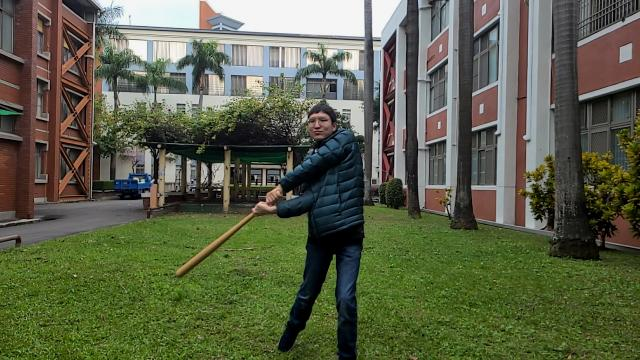bat: (176, 214, 256, 278)
